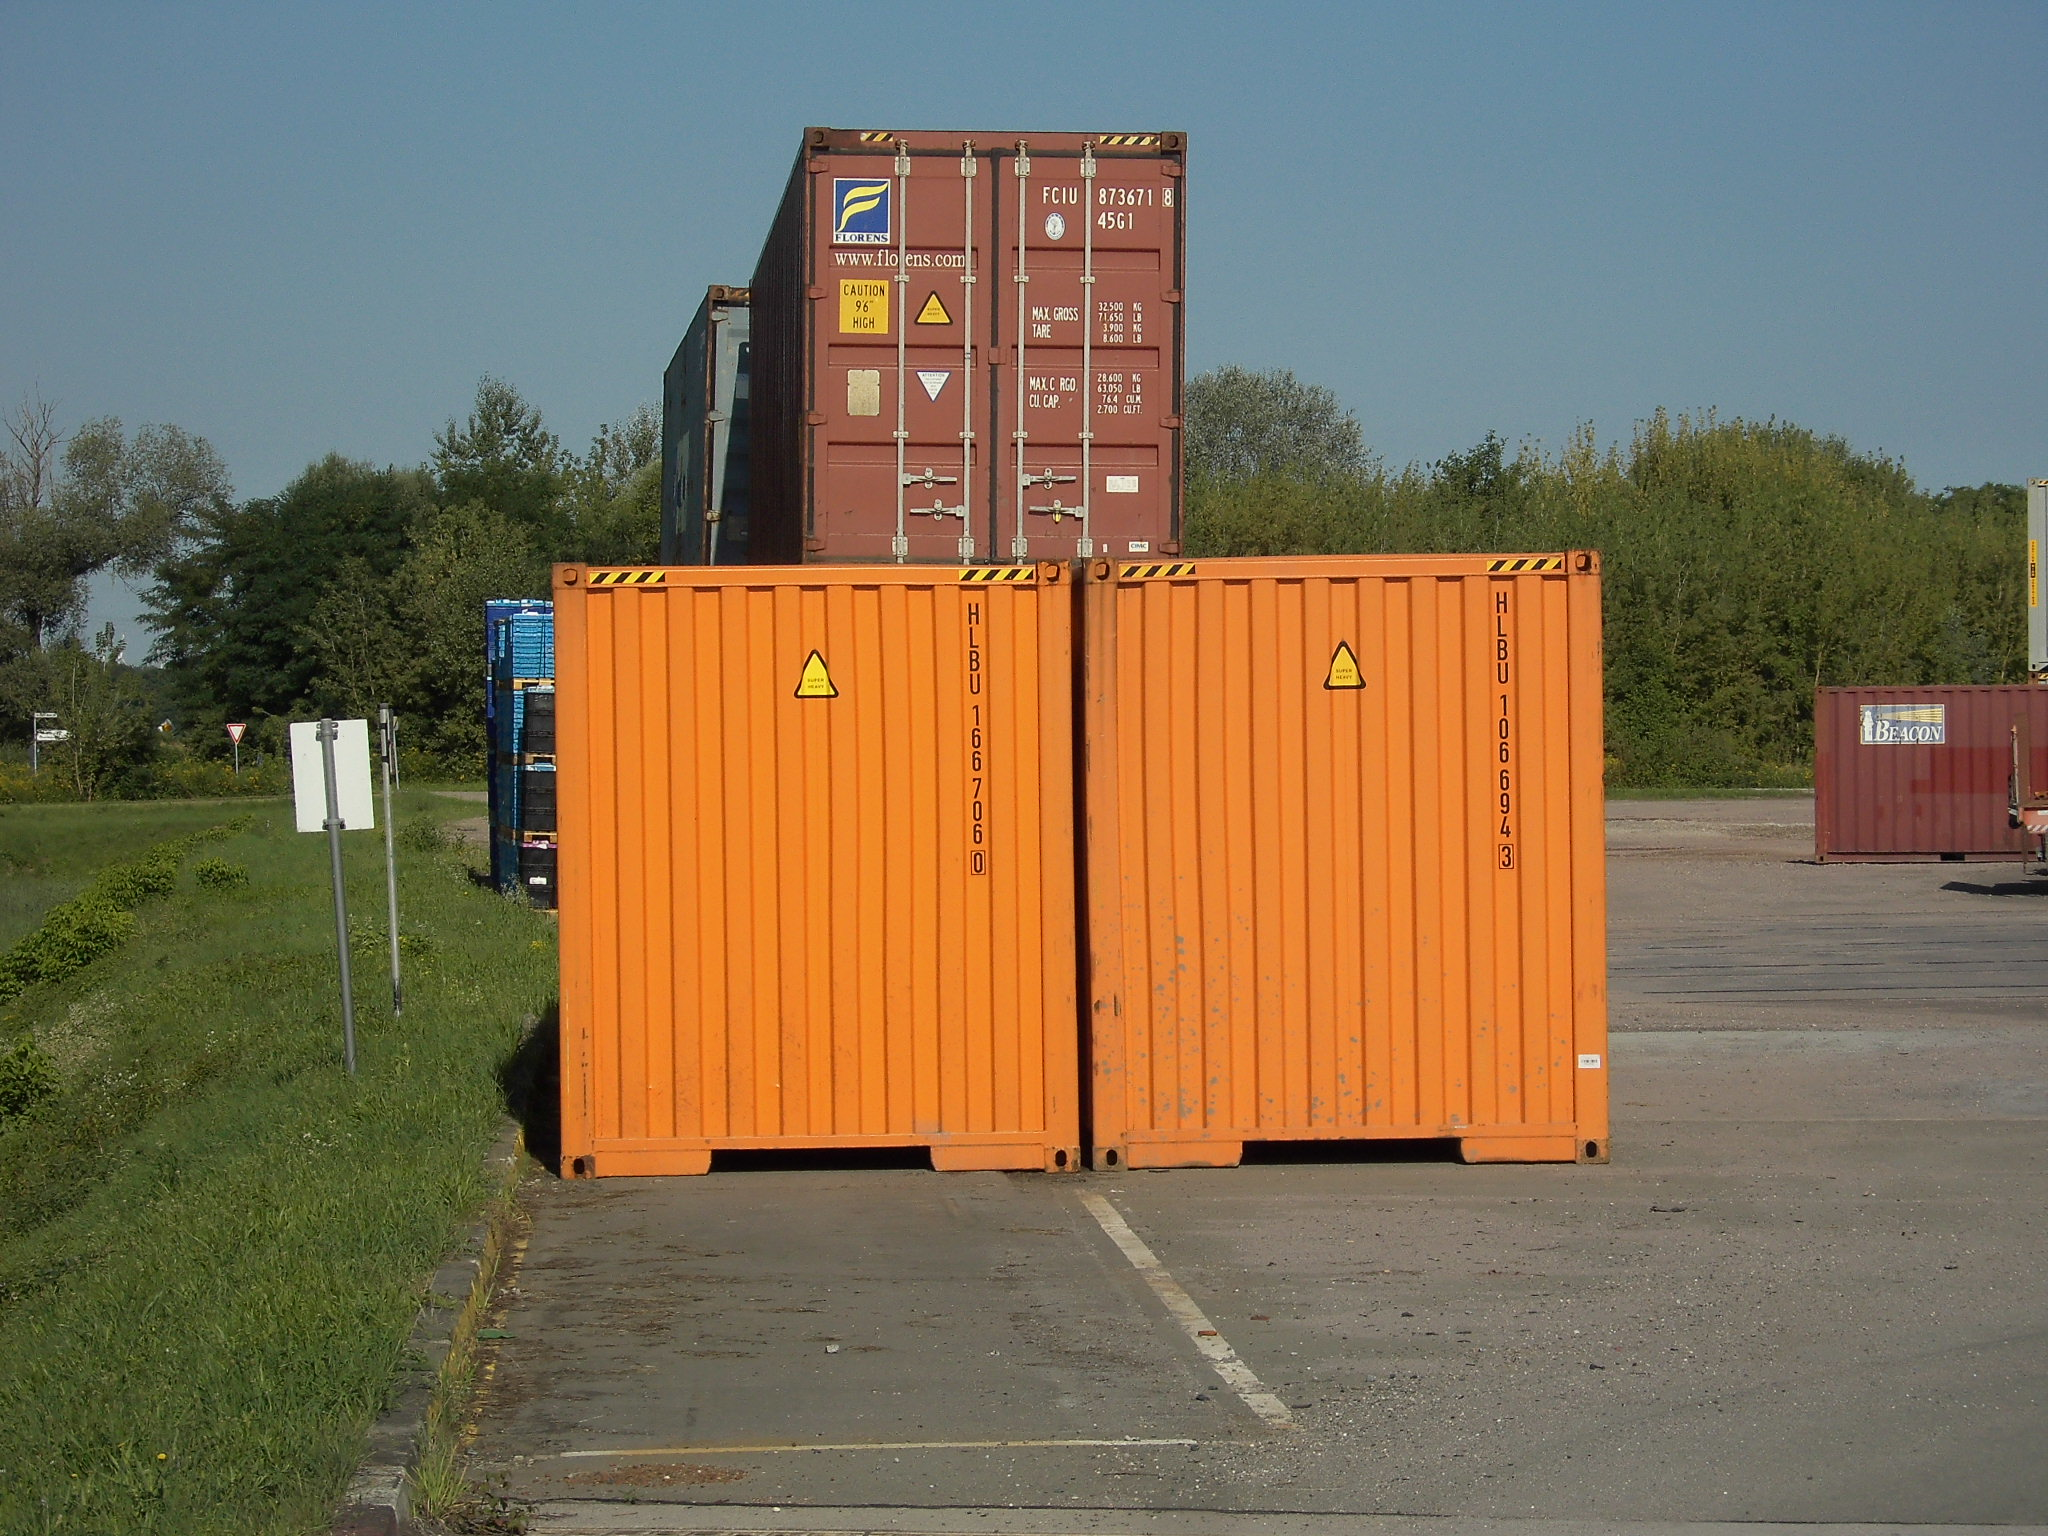container_door: (816, 123, 1184, 557)
container_no_door: (553, 560, 1079, 1171), (1084, 558, 1609, 1170)
